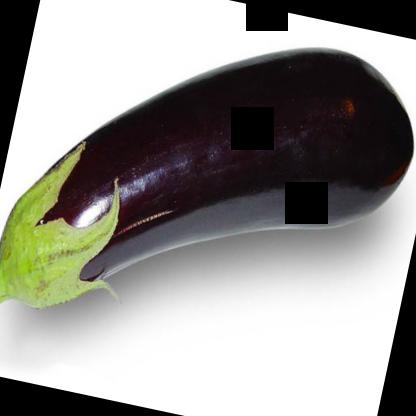eggplant: (0, 0, 415, 391)
